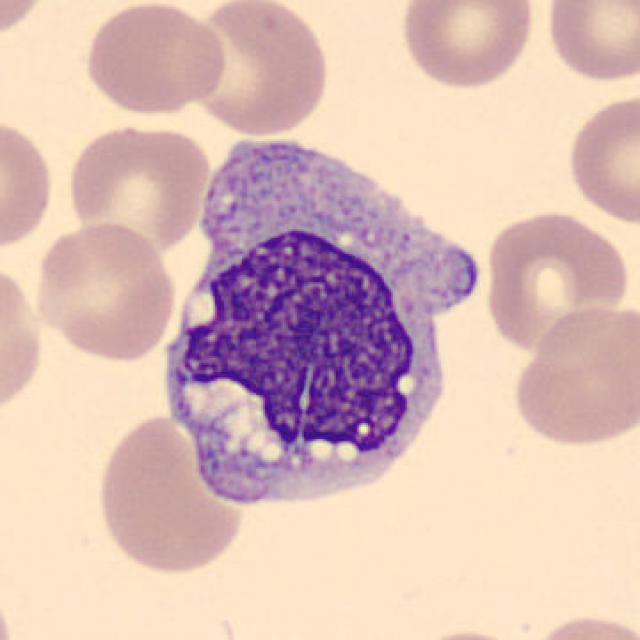Monocyte: (148, 118, 476, 526)
RBC: (92, 411, 249, 578), (480, 206, 631, 354), (30, 219, 180, 365), (184, 0, 332, 139), (64, 120, 213, 257), (508, 300, 638, 451), (80, 0, 229, 118), (396, 0, 538, 92), (564, 90, 638, 226), (540, 0, 639, 86), (0, 111, 57, 257), (0, 258, 48, 422), (526, 610, 638, 640), (0, 0, 52, 44)
